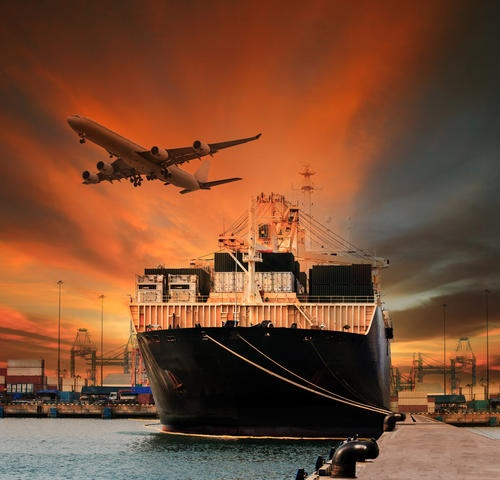Cargoship: (90, 184, 400, 432)
airplane: (55, 105, 265, 197)
